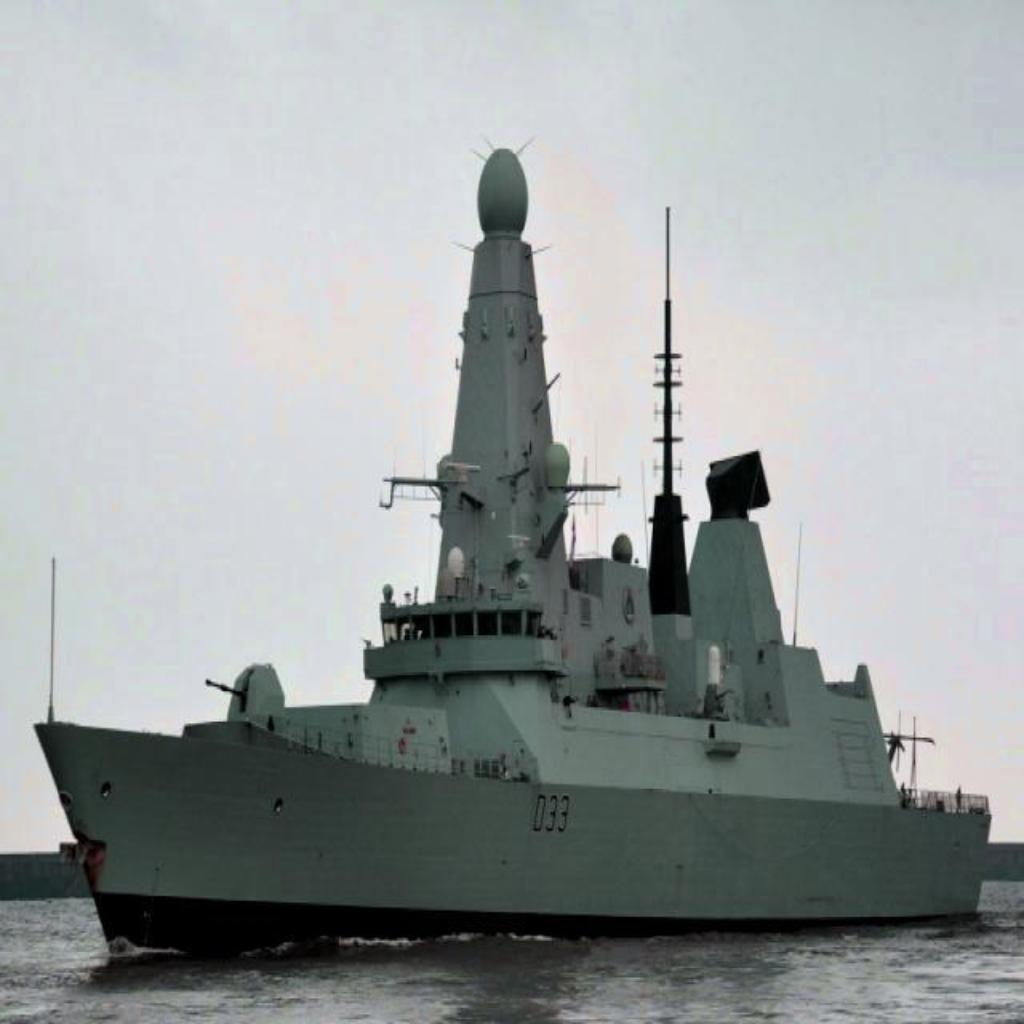Warship: (28, 116, 1002, 950)
